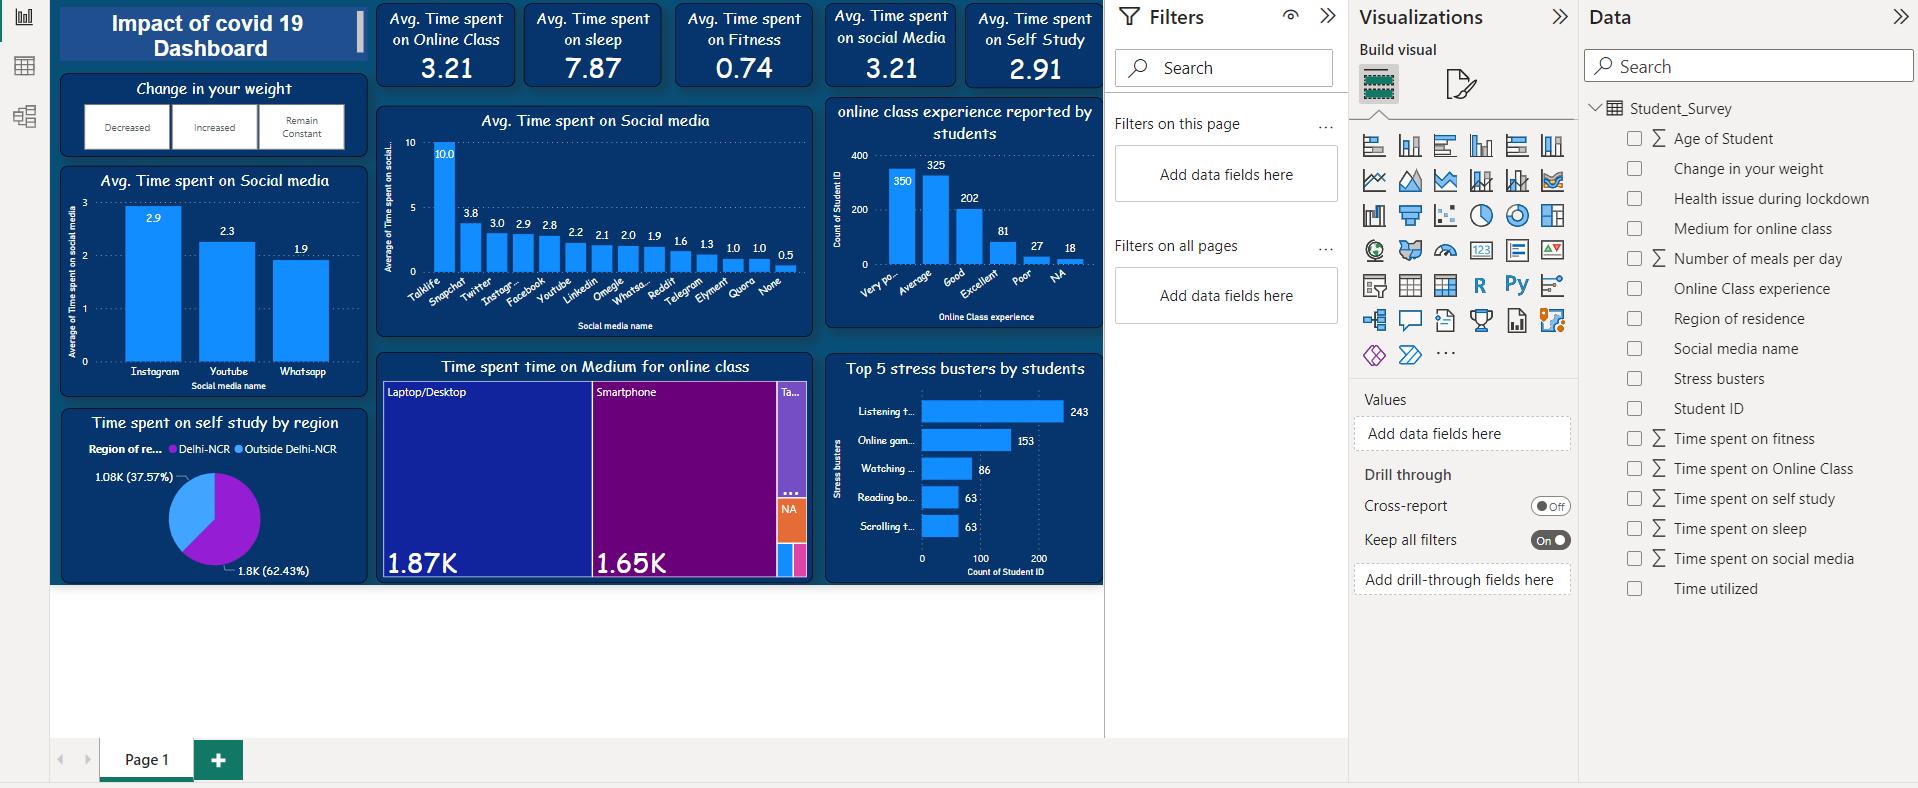

What the dashboard file says about the page in this screenshot:
{"tool":"powerbi","page":{"name":"Page 1","canvas":[1280,720],"ordinal":0},"visuals":[{"type":"card","title":"Avg. Time spent on Online Class","fields":{"Values":["Student_Survey.Time spent on Online Class"]},"box":[396.4,13.7,168.6,101.8],"z":0},{"type":"card","title":"Avg. Time spent on sleep","fields":{"Values":["Student_Survey.Time spent on sleep"]},"box":[575.6,13.7,167.1,101.8],"z":1000},{"type":"card","title":"Avg. Time spent on Self Study","fields":{"Values":["Student_Survey.Time spent on self study"]},"box":[1111.7,13.7,168.6,103.3],"z":2000},{"type":"card","title":"Avg. Time spent on social Media","fields":{"Values":["Student_Survey.Time spent on Online Class"]},"box":[941.6,13.7,159.5,101.8],"z":3000},{"type":"card","title":"Avg. Time spent on Fitness","fields":{"Values":["Student_Survey.Time spent on fitness"]},"box":[759.4,13.7,167.1,101.8],"z":4000},{"type":"textbox","box":[12.2,18.2,373.6,65.3],"z":5000},{"type":"slicer","title":"Change in your weight","fields":{"Values":["Student_Survey.Change in your weight"]},"box":[12.2,98.7,373.6,101.8],"z":6000},{"type":"columnChart","title":"Avg. Time spent on Social media","fields":{"Y":["Student_Survey.Time spent on social media"],"Category":["Student_Survey.Social media name"]},"box":[12.2,211.1,373.6,281],"z":7000},{"type":"pieChart","title":"Time spent on self study by region","fields":{"Y":["Student_Survey.Time spent on self study"],"Category":["Student_Survey.Region of residence"]},"box":[13.7,505.7,372.1,212.6],"z":8000},{"type":"columnChart","title":"Avg. Time spent on Social media","fields":{"Category":["Student_Survey.Social media name"],"Y":["Student_Survey.Time spent on social media"]},"box":[397.5,128.8,530,280],"z":9000},{"type":"treemap","title":"Time spent time on Medium for online class","fields":{"Group":["Student_Survey.Medium for online class"],"Values":["Student_Survey.Time spent on Online Class"]},"box":[396.4,437.4,530,281],"z":10000},{"type":"columnChart","title":"online class experience reported by students","fields":{"Y":["Student_Survey.Student ID"],"Category":["Student_Survey.Online Class experience"]},"box":[941.6,127.6,338.7,281],"z":11000},{"type":"columnChart","title":"Top 5 stress busters by students","fields":{"Category":["Student_Survey.Stress busters"],"Y":["Student_Survey.Student ID"]},"box":[941.2,436.2,338.8,281.2],"z":12000}]}

Visuals, with their boxes on the page's 1280x720 design canvas (x1, y1, x2, y2). These are canvas units, not pixel positions in the 1918x788 screenshot, which may show the page scaled, cropped or inside an application window:
"Avg. Time spent on Online Class" card: (396,14,565,116)
"Avg. Time spent on sleep" card: (576,14,743,116)
"Avg. Time spent on Self Study" card: (1112,14,1280,117)
"Avg. Time spent on social Media" card: (942,14,1101,116)
"Avg. Time spent on Fitness" card: (759,14,926,116)
textbox: (12,18,386,84)
"Change in your weight" slicer: (12,99,386,200)
"Avg. Time spent on Social media" columnChart: (12,211,386,492)
"Time spent on self study by region" pieChart: (14,506,386,718)
"Avg. Time spent on Social media" columnChart: (398,129,928,409)
"Time spent time on Medium for online class" treemap: (396,437,926,718)
"online class experience reported by students" columnChart: (942,128,1280,409)
"Top 5 stress busters by students" columnChart: (941,436,1280,717)
